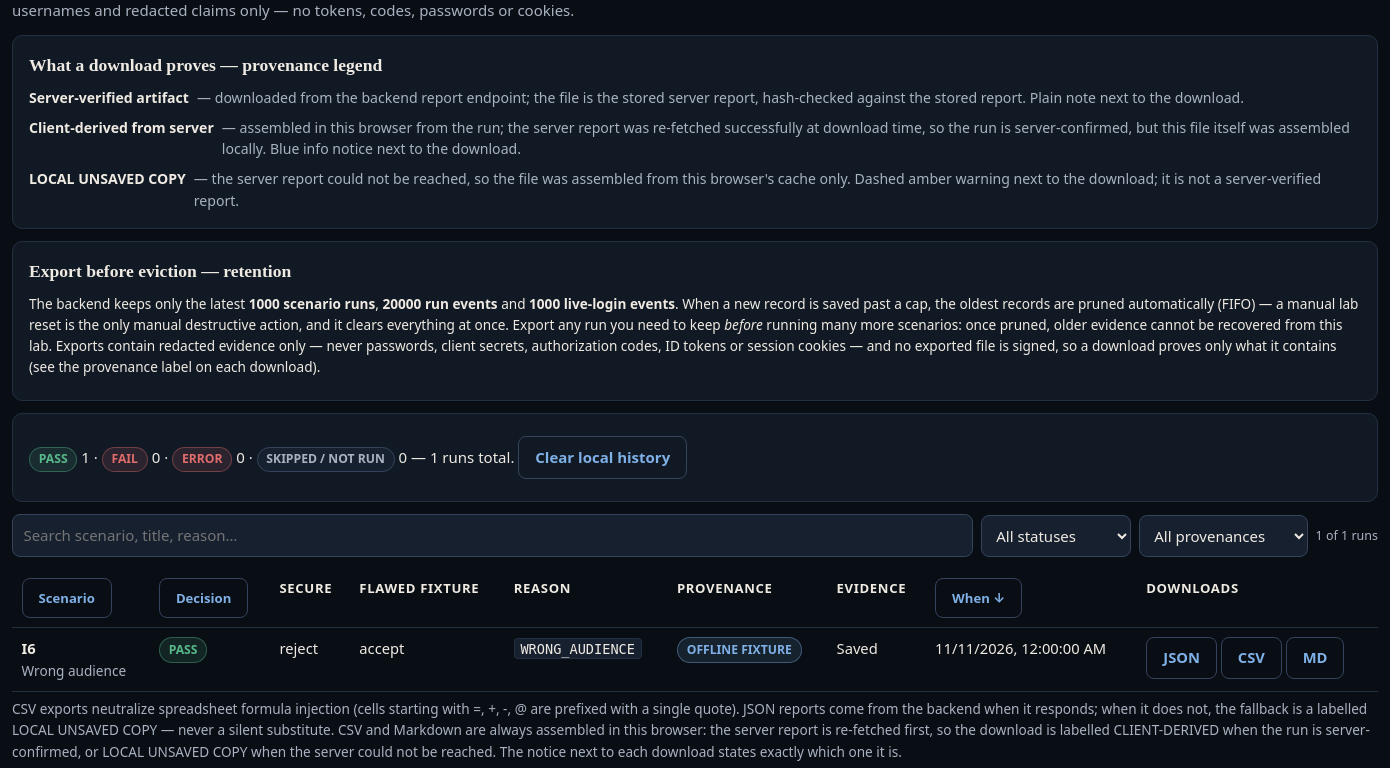
Test: Findings download provenance notices (IF-V4-12) › MD download shows the fallback warning when the server report cannot be fetched
This screenshot has width=1390, height=768.
(page scrolled)
Step 1. Click the button "MD" → {"x": 1315, "y": 658}, box top-left (1286, 637), bottom-right (1344, 679)
(page scrolled)
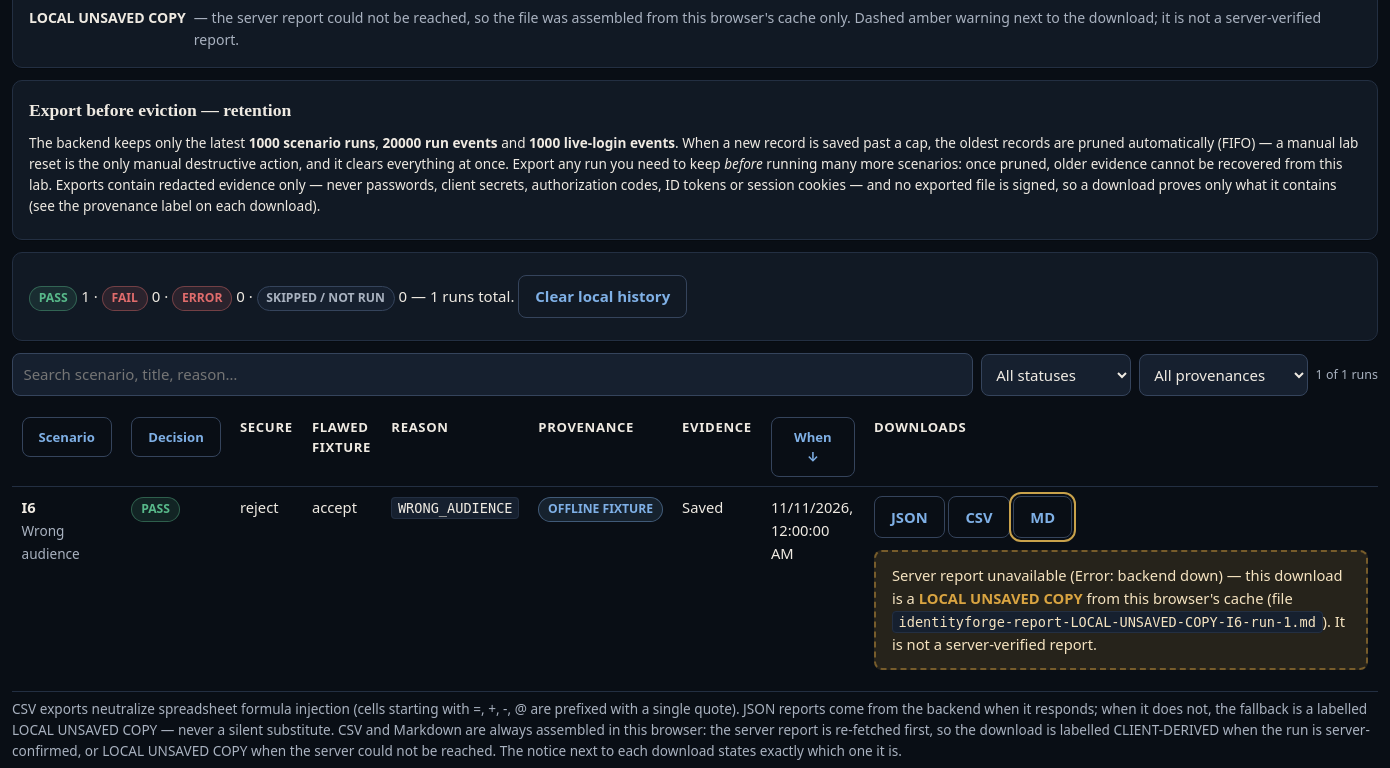
Check: the message that starts with "Server report unavailable" shows "LOCAL UNSAVED COPY", box top-left (919, 588), bottom-right (1083, 608)
